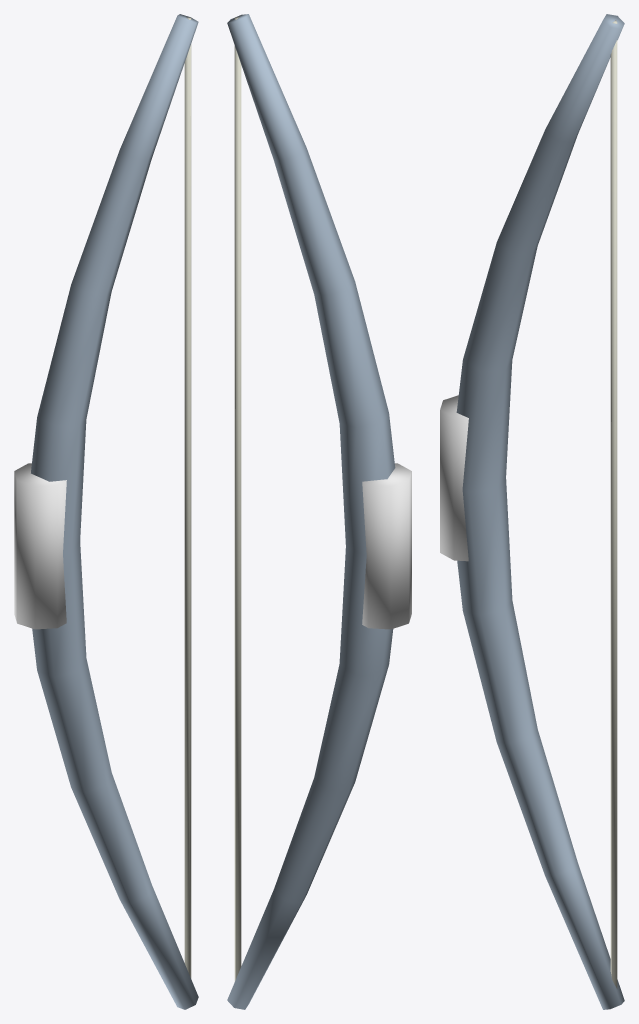
File: titanium_bow.glb
The picture shows the model from 3 angles, left to right: view 1: azimuth 30°, elevation 25°; view 2: azimuth 150°, elevation 25°; view 3: azimuth 330°, elevation 25°; orthographic projection.
Parts seen in each view (by area): view 1: titanium_bow_v0; view 2: titanium_bow_v0; view 3: titanium_bow_v0.
Part boxes in pixels (x1=…): titanium_bow_v0: x1=14, y1=14, x2=198, y2=1009; titanium_bow_v0: x1=227, y1=14, x2=411, y2=1009; titanium_bow_v0: x1=440, y1=14, x2=624, y2=1009.
Size of the model in its own units: 0.2105 by 1.11 by 0.06.
